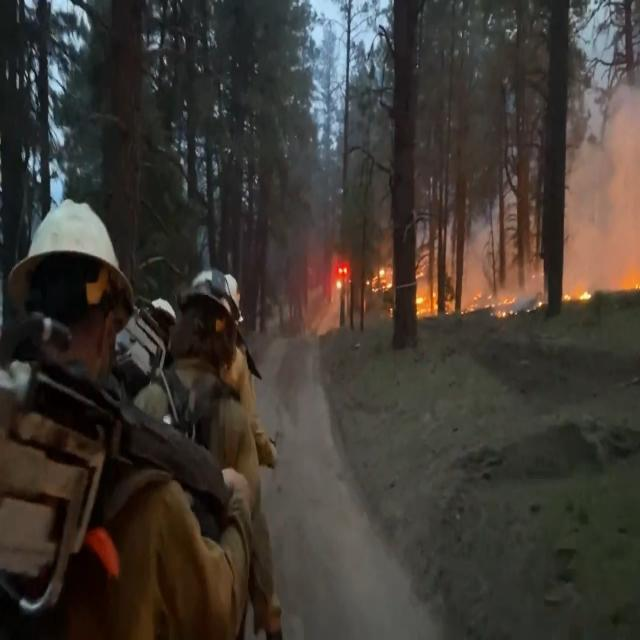Fire: (329, 239, 640, 323)
